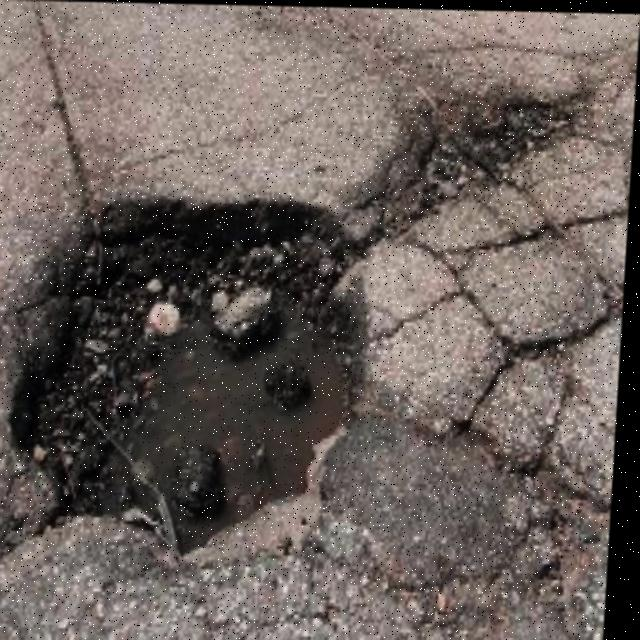Pothole: (0, 194, 407, 551), (393, 52, 612, 206)
